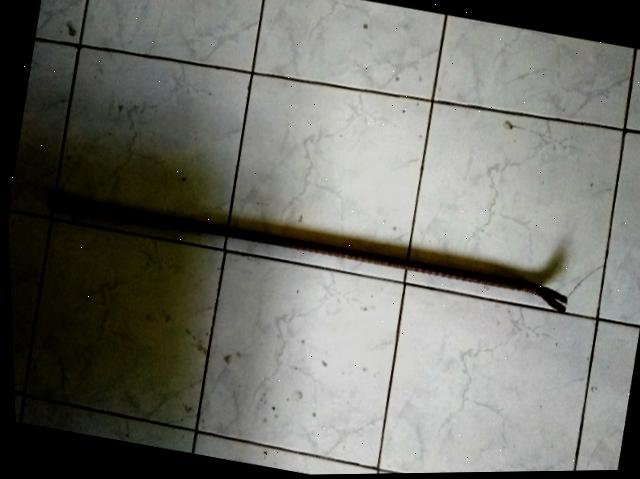crow bar: (42, 185, 569, 329)
